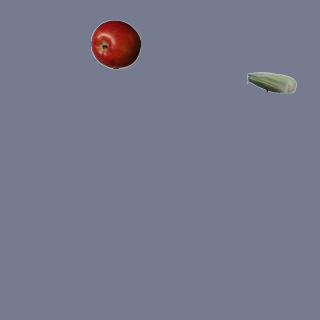Apple Braeburn: (90, 19, 140, 69)
Corn Husk: (246, 57, 296, 107)
